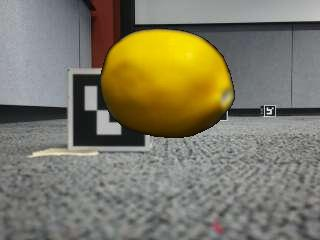lemon: (101, 29, 234, 137)
